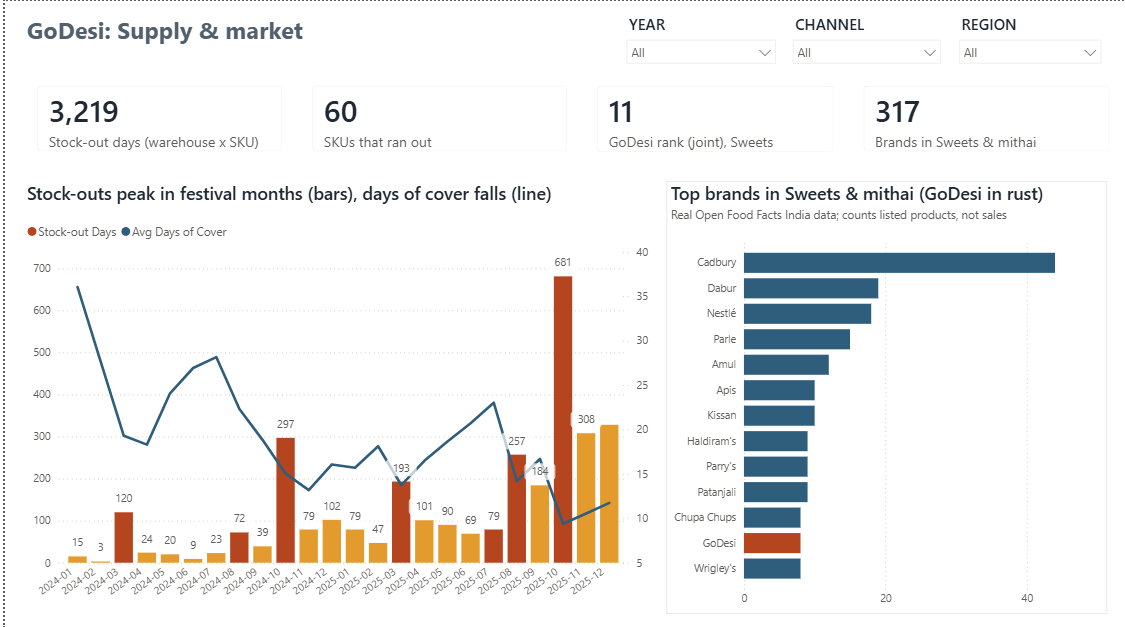

Layout of this report page (visuals, bound fields, positions):
{"tool":"powerbi","page":{"name":" Supply & market","canvas":[1280,720],"ordinal":4},"visuals":[{"type":"slicer","fields":{"Values":["DIM_DATE.YEAR"]},"box":[699.8,9.6,190.7,70],"z":0},{"type":"slicer","fields":{"Values":["DIM_CHANNEL.CHANNEL"]},"box":[890.6,9.6,189.4,70],"z":1000},{"type":"slicer","fields":{"Values":["DIM_GEOGRAPHY.REGION"]},"box":[1079.9,9.6,182.5,70],"z":2000},{"type":"cardVisual","fields":{"Data":["FCT_INVENTORY_DAILY.Stock-out Days"]},"box":[20,80,314.2,109.8],"z":3000},{"type":"cardVisual","fields":{"Data":["MART_MARKET_LANDSCAPE.GoDesi Rank in Sweets"]},"box":[660,80,304.3,110],"z":4000},{"type":"cardVisual","title":" Returning customers'' share (online)","fields":{"Data":["FCT_INVENTORY_DAILY.Brands in Sweets"]},"box":[964.7,79.6,315.6,109.8],"z":5000},{"type":"cardVisual","fields":{"Data":["FCT_INVENTORY_DAILY.SKUs Out of Stock"]},"box":[334.8,79.6,325.2,109.8],"z":6000},{"type":"textbox","box":[20,10,600,50],"z":7000},{"type":"lineClusteredColumnComboChart","title":" Stock-outs peak in festival months (bars), days of cover falls (line)","fields":{"Category":["DIM_DATE.YEAR_MONTH"],"Y":["FCT_INVENTORY_DAILY.Stock-out Days"],"Y2":["FCT_INVENTORY_DAILY.Avg Days of Cover"]},"box":[20,205,720,495],"z":7001},{"type":"barChart","title":" Top brands in Sweets & mithai (GoDesi in rust)","fields":{"Category":["MART_MARKET_LANDSCAPE.BRAND"],"Y":["Sum(MART_MARKET_LANDSCAPE.PRODUCTS)"],"Series":["MART_MARKET_LANDSCAPE.IS_GODESI"]},"box":[755,205.7,505,495],"z":7002}]}

Visuals, with their boxes in screenshot pixels (x1, y1, x2, y2), scaled from the page's 1280x720 canvas onto the 1125x627 screenshot:
slicer - DIM_DATE.YEAR: (615,8,783,69)
slicer - DIM_CHANNEL.CHANNEL: (783,8,949,69)
slicer - DIM_GEOGRAPHY.REGION: (949,8,1110,69)
cardVisual - FCT_INVENTORY_DAILY.Stock-out Days: (18,70,294,165)
cardVisual - MART_MARKET_LANDSCAPE.GoDesi Rank in Sweets: (580,70,848,165)
" Returning customers'' share (online)" cardVisual: (848,69,1124,165)
cardVisual - FCT_INVENTORY_DAILY.SKUs Out of Stock: (294,69,580,165)
textbox: (18,9,545,52)
" Stock-outs peak in festival months (bars), days of cover falls (line)" lineClusteredColumnComboChart: (18,179,650,610)
" Top brands in Sweets & mithai (GoDesi in rust)" barChart: (664,179,1107,610)
